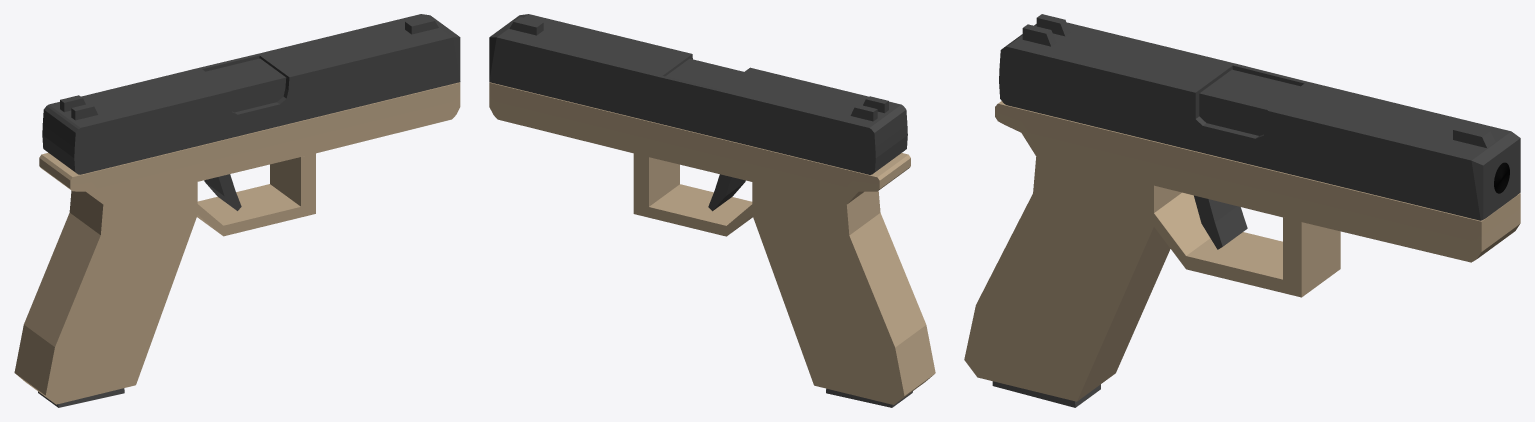
File: g17_low_poly_gun.glb
3 views of the same model, side by side, from view 1: azimuth 30°, elevation 25°; view 2: azimuth 150°, elevation 25°; view 3: azimuth 330°, elevation 25° (orthographic). The views are drawn at different scales.
Parts seen in each view (by area): view 1: Cube.004, Cube.003, Cube.005; view 2: Cube.004, Cube.003, Cube.005; view 3: Cube.004, Cube.003, Cube.005, Cylindre.002.
Boxes of the visible parts, x1,y1,x2,y2 form: Cube.004: (14,58,460,404); Cube.003: (42,14,460,174); Cube.005: (204,174,241,210); Cube.004: (489,58,935,404); Cube.003: (489,14,907,174); Cube.005: (708,174,745,211); Cube.004: (964,69,1520,401); Cube.003: (999,14,1520,220); Cube.005: (1194,195,1247,249); Cylindre.002: (992,381,1100,407).
Bounding box in the file's own units: 4.8 × 3.21 × 0.6408.
Materials: 4 (4 with a texture image).
